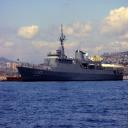Fragata: (17, 25, 125, 84)
